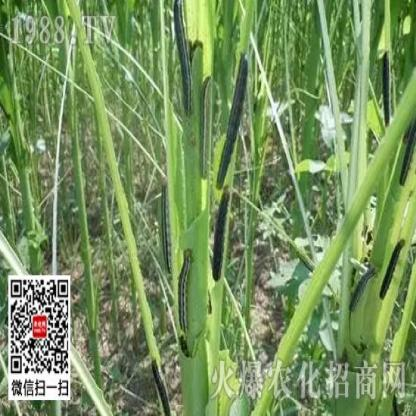armyworm: (216, 49, 250, 200), (171, 0, 195, 119), (173, 244, 197, 360), (209, 181, 232, 287), (379, 235, 407, 307), (197, 74, 213, 184), (158, 171, 172, 279), (349, 265, 378, 316), (150, 357, 175, 416), (397, 118, 416, 187), (378, 48, 392, 131)
